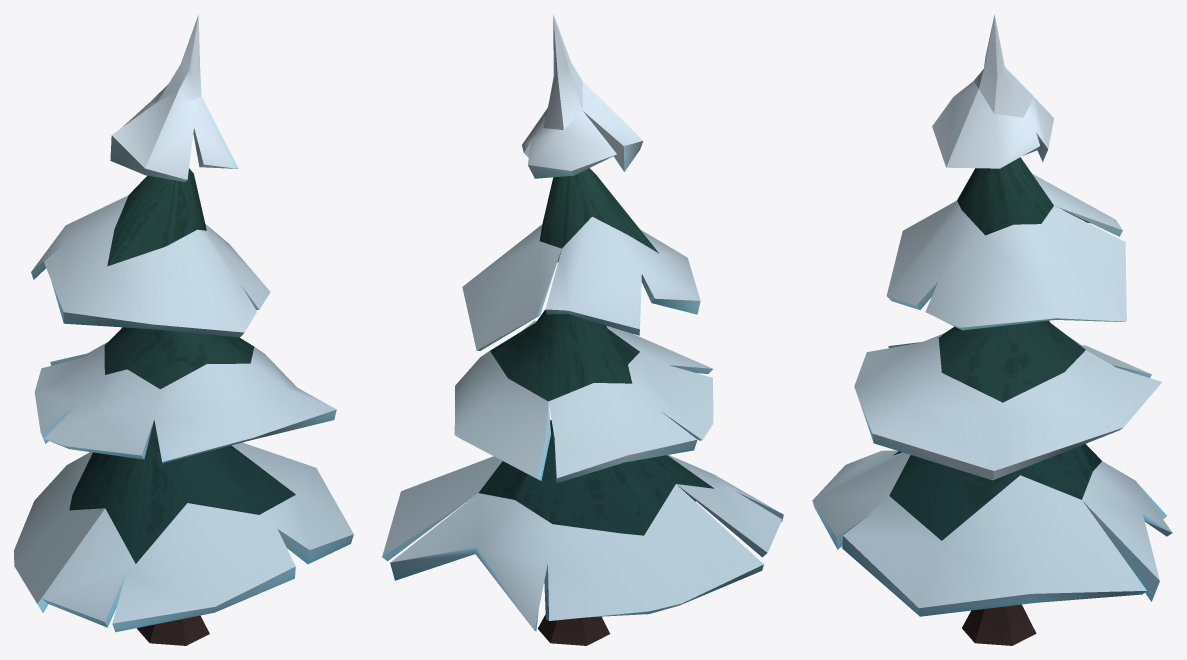
The model's file is SnowTree4.fbx.
The picture shows the model from 3 angles, left to right: view 1: azimuth 30°, elevation 25°; view 2: azimuth 150°, elevation 25°; view 3: azimuth 270°, elevation 25°; orthographic projection. The views are drawn at different scales.
Visible parts, largest first — view 1: SnowTree4; view 2: SnowTree4; view 3: SnowTree4.
Part boxes in pixels (bbox=[...]): SnowTree4: bbox=[14, 14, 353, 645]; SnowTree4: bbox=[382, 15, 783, 645]; SnowTree4: bbox=[812, 14, 1172, 645].
Size of the model in its own units: 631 by 1149 by 597.
